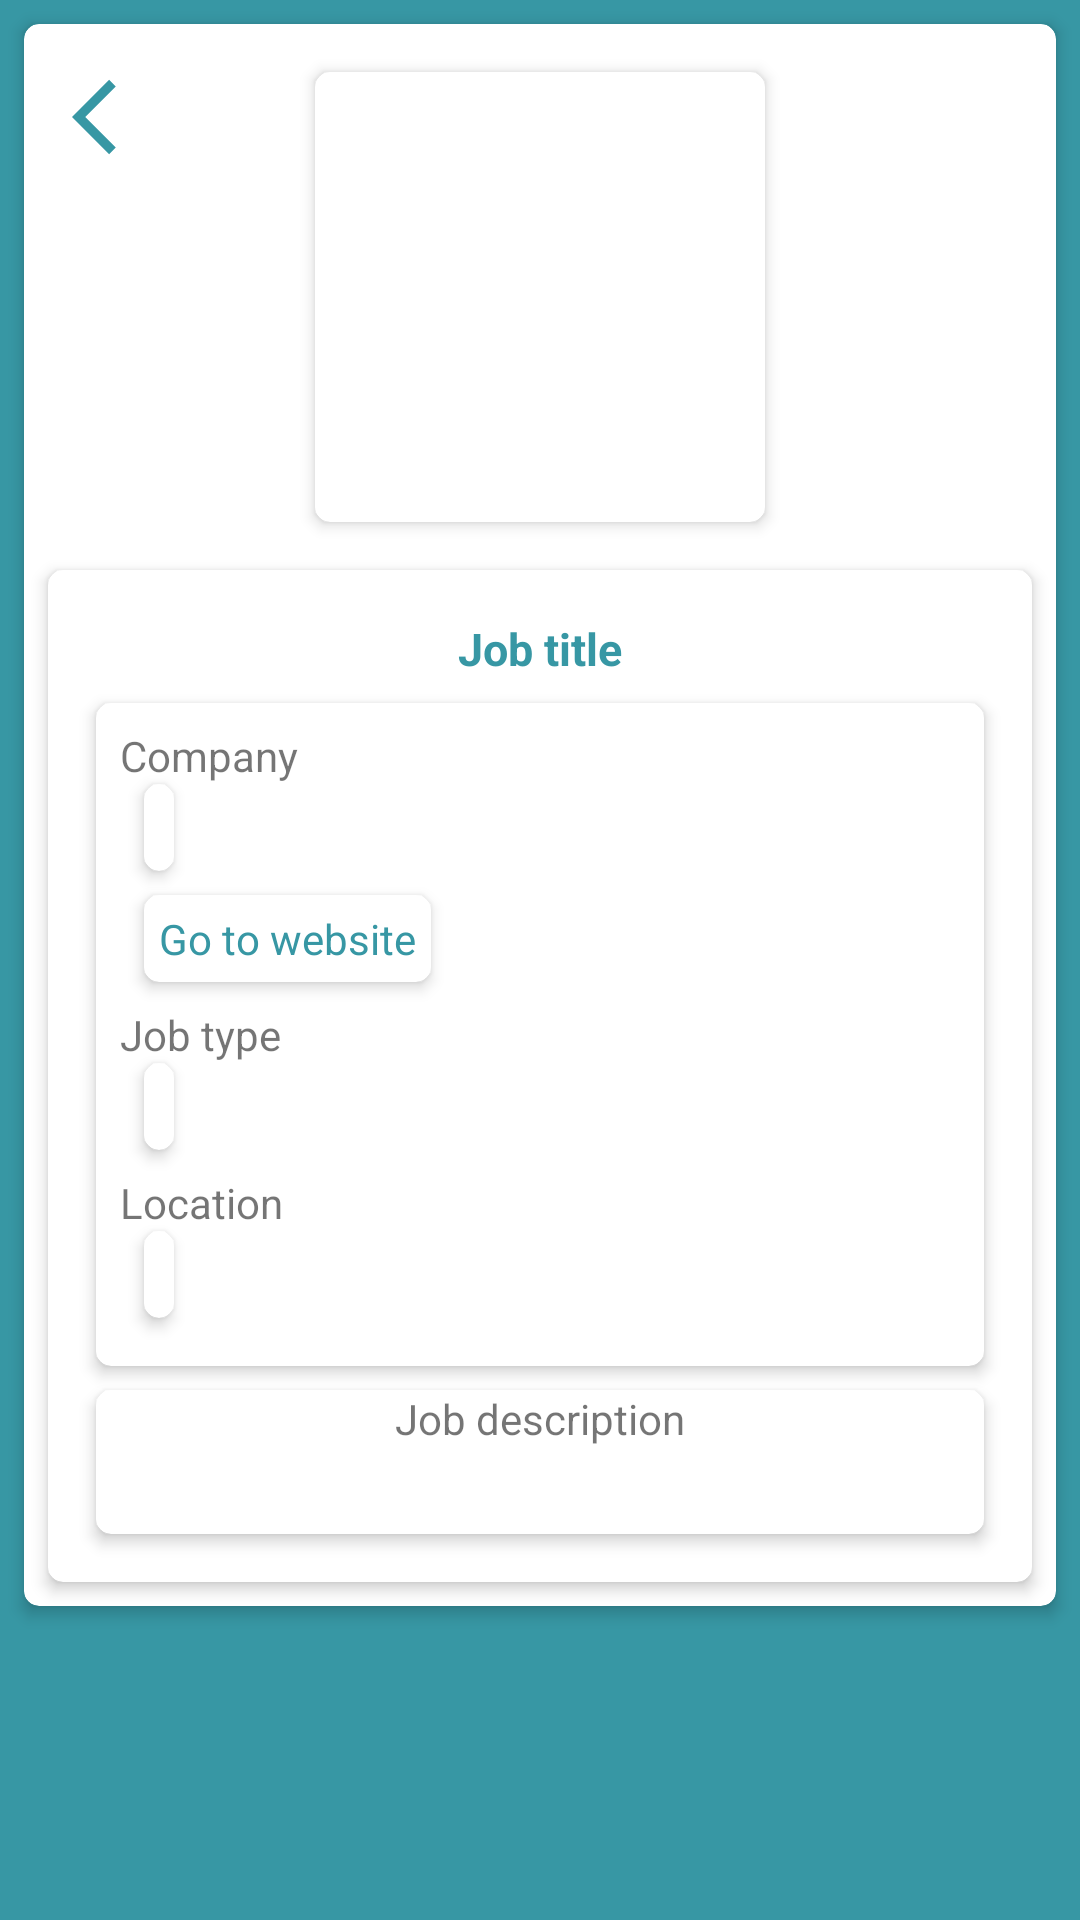

Icons on this 1080*1920 Android screen, each with the point to tap as (x=x, y=y):
arrow back: (x=94, y=117)
